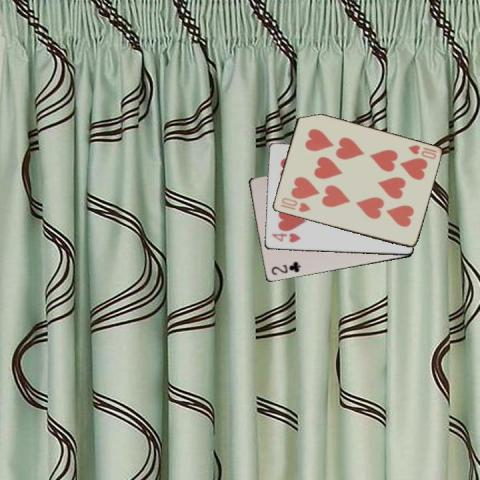10h: (404, 142, 438, 161), (277, 195, 312, 213)
2c: (268, 258, 302, 276)
4h: (269, 231, 302, 244)
